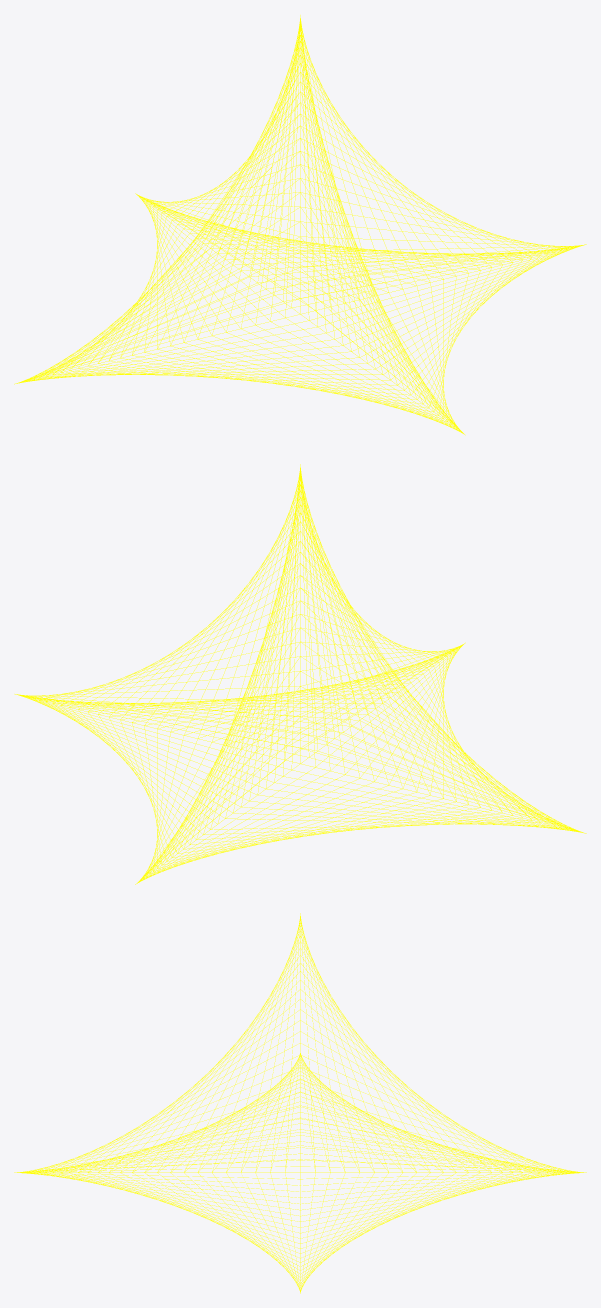
File: accentart1.gltf
3 renders of one model, top to bottom at view 1: azimuth 30°, elevation 25°; view 2: azimuth 150°, elevation 25°; view 3: azimuth 270°, elevation 25°, orthographic. The views are drawn at different scales.
Parts seen in each view (by area): view 1: Vert.033; view 2: Vert.033; view 3: Vert.033.
Boxes of the visible parts, bbox=[...] form: Vert.033: bbox=[14, 15, 586, 435]; Vert.033: bbox=[14, 464, 586, 884]; Vert.033: bbox=[14, 913, 586, 1293].
Size of what is drawn, in the model's own units: 4 by 2 by 4.
